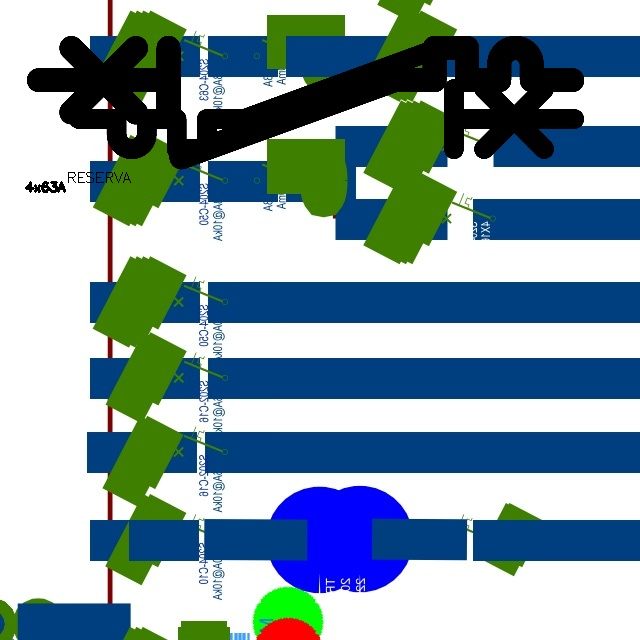interruptor_termomagnetico: (25, 34, 586, 171), (66, 34, 587, 162)
